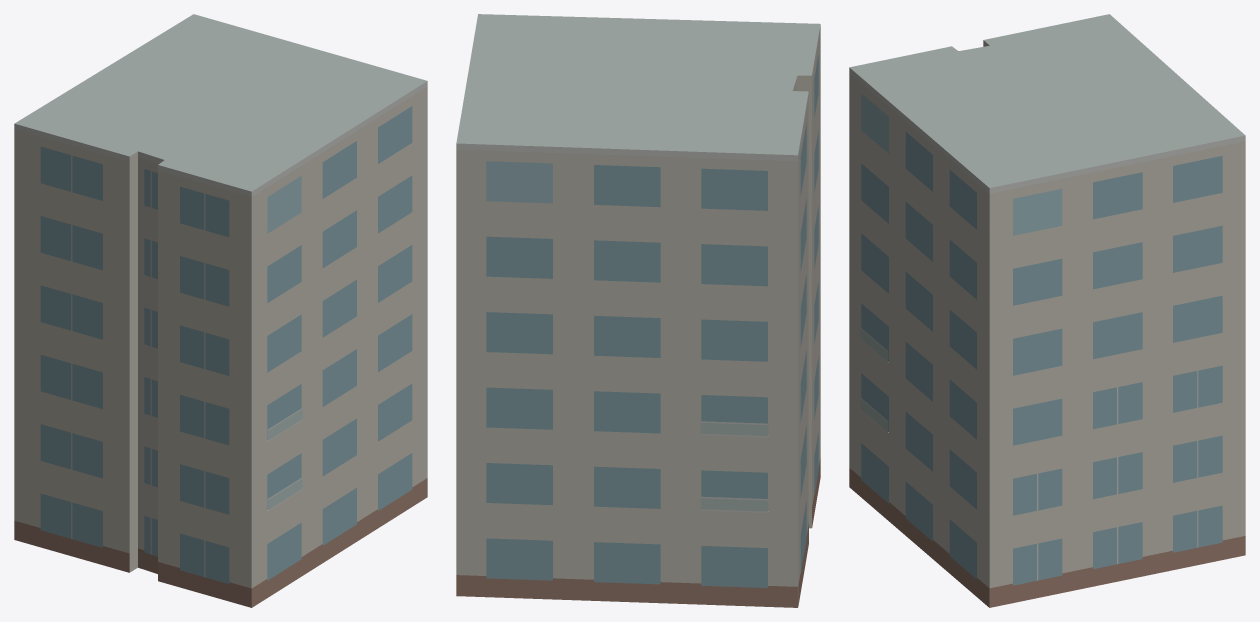
The model's file is survey-upis-32738339.glb.
3 views of the same model, side by side, from view 1: azimuth 30°, elevation 25°; view 2: azimuth 150°, elevation 25°; view 3: azimuth 270°, elevation 25° (orthographic). The views are drawn at different scales.
Parts seen in each view (by area): view 1: survey-upis-32738339.tmp; view 2: survey-upis-32738339.tmp; view 3: survey-upis-32738339.tmp.
Boxes of the visible parts, left/top/right/bottom form: survey-upis-32738339.tmp: left=14, top=14, right=427, bottom=607; survey-upis-32738339.tmp: left=456, top=14, right=820, bottom=607; survey-upis-32738339.tmp: left=849, top=14, right=1245, bottom=607.
Size of the model in its own units: 16.29 by 18.3 by 15.67.
